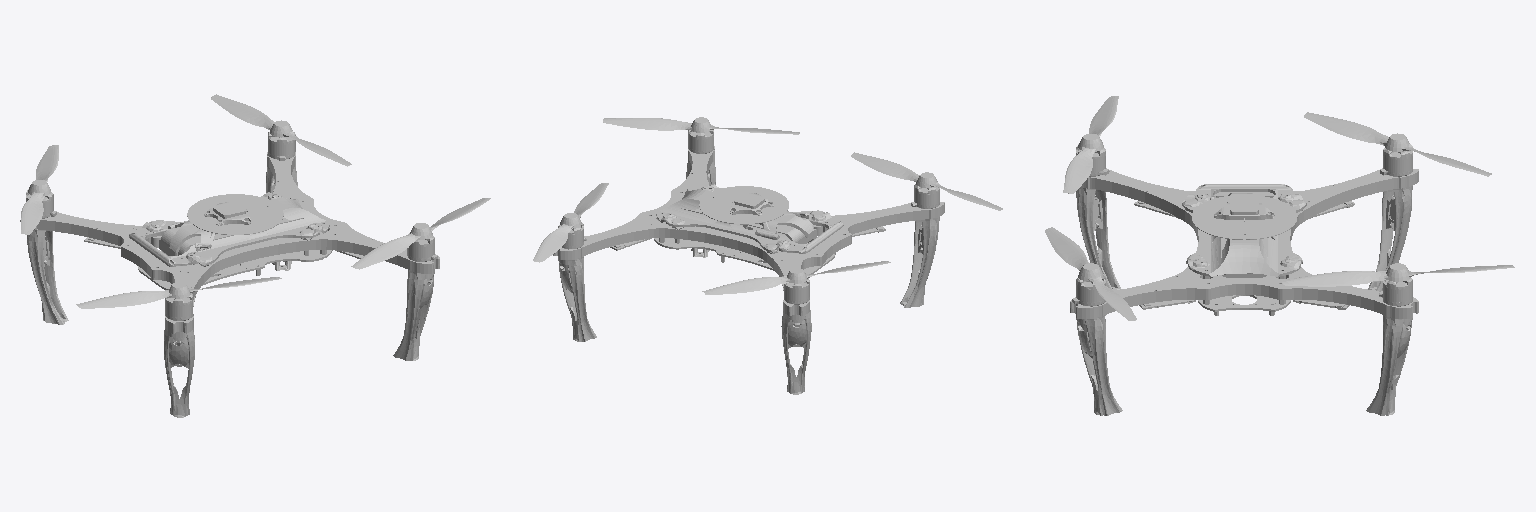
URDF robot description (ddk):
<?xml version="1.0"?>
<!--
/****************************************************************************
 *   Copyright (c) 2018 [author]. All rights reserved.
 *
 * Redistribution and use in source and binary forms, with or without
 * modification, are permitted provided that the following conditions
 * are met:
 *
 * 1. Redistributions of source code must retain the above copyright
 *    notice, this list of conditions and the following disclaimer.
 * 2. Redistributions in binary form must reproduce the above copyright
 *    notice, this list of conditions and the following disclaimer in
 *    the documentation and/or other materials provided with the
 *    distribution.
 * 3. Neither the name ATLFlight nor the names of its contributors may be
 *    used to endorse or promote products derived from this software
 *    without specific prior written permission.
 *
 * NO EXPRESS OR IMPLIED LICENSES TO ANY PARTY'S PATENT RIGHTS ARE GRANTED BY THIS LICENSE.
 * THIS SOFTWARE IS PROVIDED BY THE COPYRIGHT [author]
 * "AS IS" AND ANY EXPRESS OR IMPLIED WARRANTIES, INCLUDING, BUT NOT
 * LIMITED TO, THE IMPLIED WARRANTIES OF MERCHANTABILITY AND FITNESS
 * FOR A PARTICULAR PURPOSE ARE DISCLAIMED. IN NO EVENT SHALL THE
 * COPYRIGHT [author] LIABLE FOR ANY DIRECT, INDIRECT,
 * INCIDENTAL, SPECIAL, EXEMPLARY, OR CONSEQUENTIAL DAMAGES (INCLUDING,
 * BUT NOT LIMITED TO, PROCUREMENT OF SUBSTITUTE GOODS OR SERVICES; LOSS
 * OF USE, DATA, OR PROFITS; OR BUSINESS INTERRUPTION) HOWEVER CAUSED
 * AND ON ANY THEORY OF LIABILITY, WHETHER IN CONTRACT, STRICT
 * LIABILITY, OR TORT (INCLUDING NEGLIGENCE OR OTHERWISE) ARISING IN
 * ANY WAY OUT OF THE USE OF THIS SOFTWARE, EVEN IF ADVISED OF THE
 * POSSIBILITY OF SUCH DAMAGE.
 *
 * In addition Supplemental Terms apply.  See the SUPPLEMENTAL file.
 ****************************************************************************/
-->
<robot name="ddk">
  <link name="base_link">
    <visual>
      <geometry>
        <mesh filename="package://qflight_descriptions/meshes/390.stl"/>
      </geometry>
      <origin rpy="3.1415926535 0 1.57079632679" xyz="0 0 0"/>
      <material name="white">
        <color rgba="0.8 0.8 0.8 1"/>
      </material>
    </visual>
  </link>
</robot>

--- Facts derived from the render (not from the file) ---
3 views of the same robot in one strip: view 1: azimuth 30°, elevation 25°; view 2: azimuth 150°, elevation 25°; view 3: azimuth 270°, elevation 25° (orthographic).
Robot: ddk — 1 links, 0 joints (none); root link base_link; default pose: all joints at 0.
Links seen in each view (by area): view 1: base_link; view 2: base_link; view 3: base_link.
Link boxes in pixels (box(x1,y1,x2,y2)): base_link: box(20, 94, 490, 417); base_link: box(533, 117, 1002, 394); base_link: box(1045, 96, 1514, 415).
Size in the robot's own frame: 0.4794 by 0.4232 by 0.1467 metres.
1 mesh visuals loaded from 1 distinct referenced files (1 binary STL).